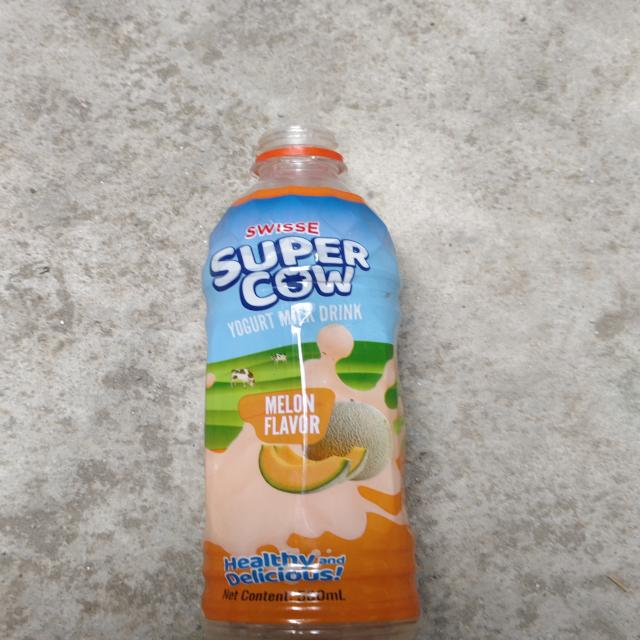Bottle: (202, 125, 419, 640)
